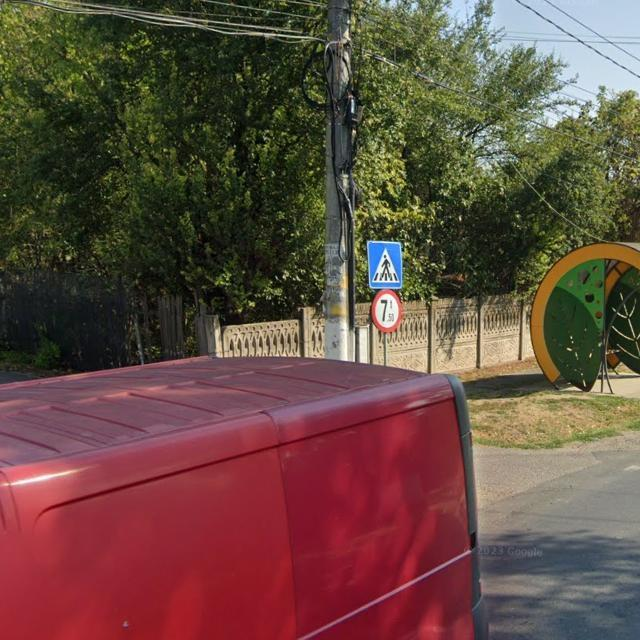info_crosswalk: (366, 240, 403, 289)
